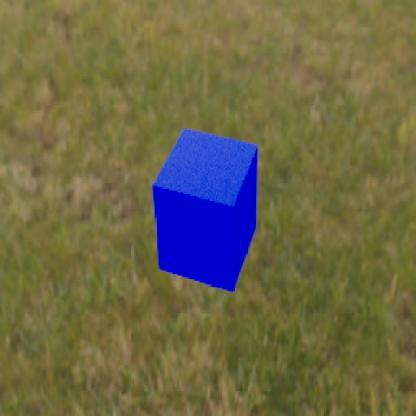cube: (150, 126, 258, 292)
